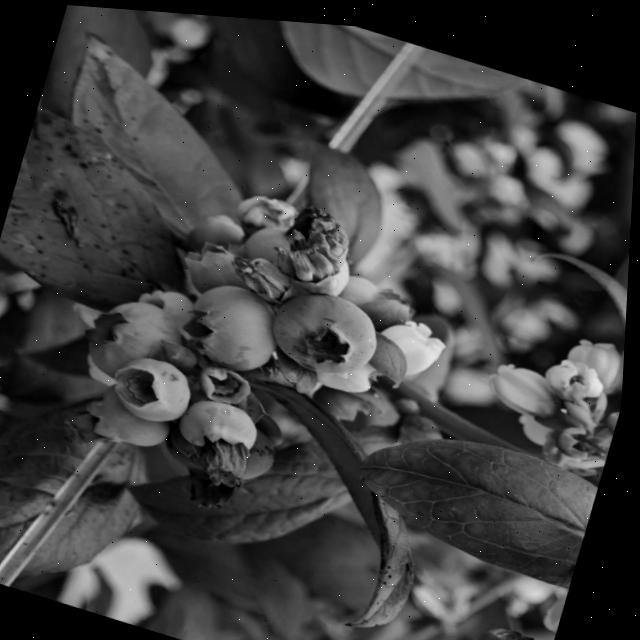Semi-RipeBlueBerry: (266, 272, 389, 380)
UnripeBlueBerry: (176, 271, 291, 376), (80, 284, 183, 391), (107, 343, 201, 430), (176, 389, 267, 465)
